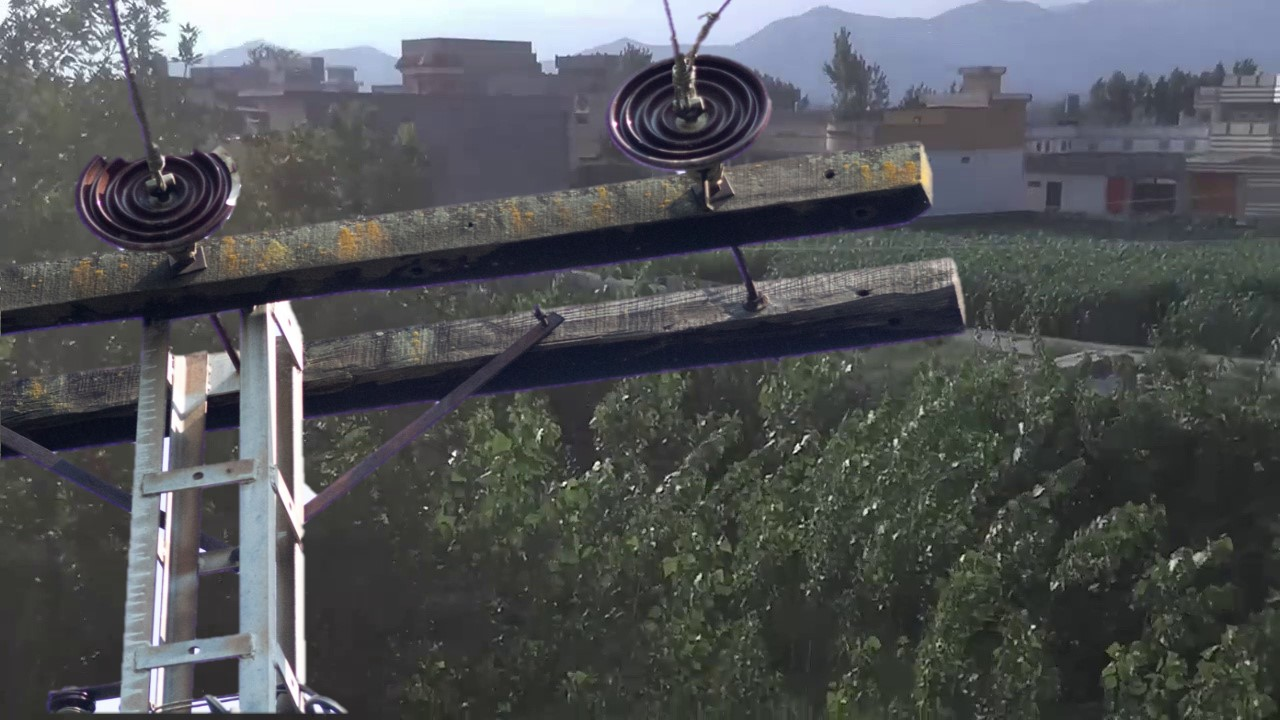defect_disc: (73, 141, 250, 252)
insulator_disc: (606, 52, 776, 174)
